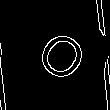O_SW: (23, 22, 87, 88)
